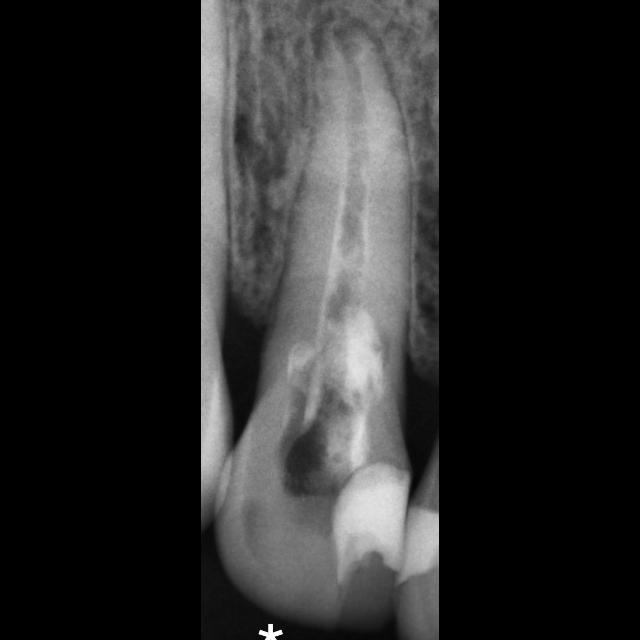tooth: (215, 16, 414, 640)
